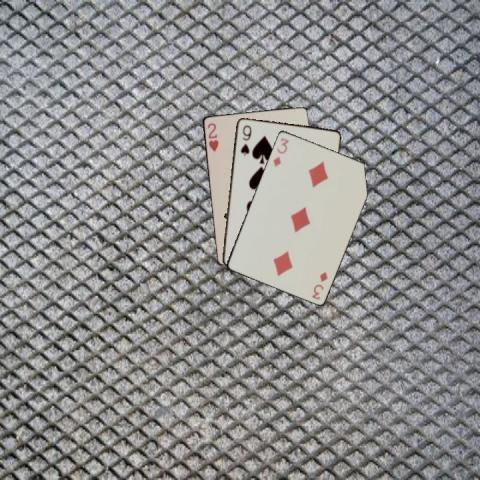2h: (205, 120, 219, 153)
3d: (308, 268, 329, 300), (270, 135, 290, 168)
9s: (237, 122, 252, 157)
